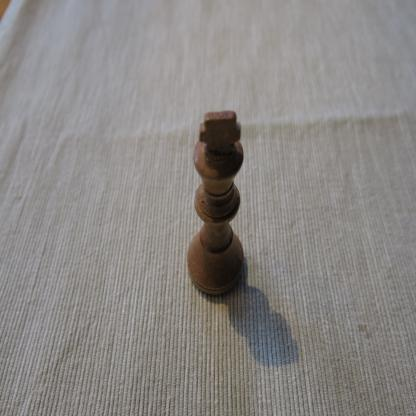white-king: (185, 109, 245, 299)
